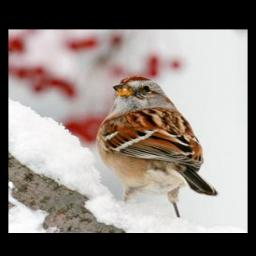Sparrow: (94, 75, 218, 219)
